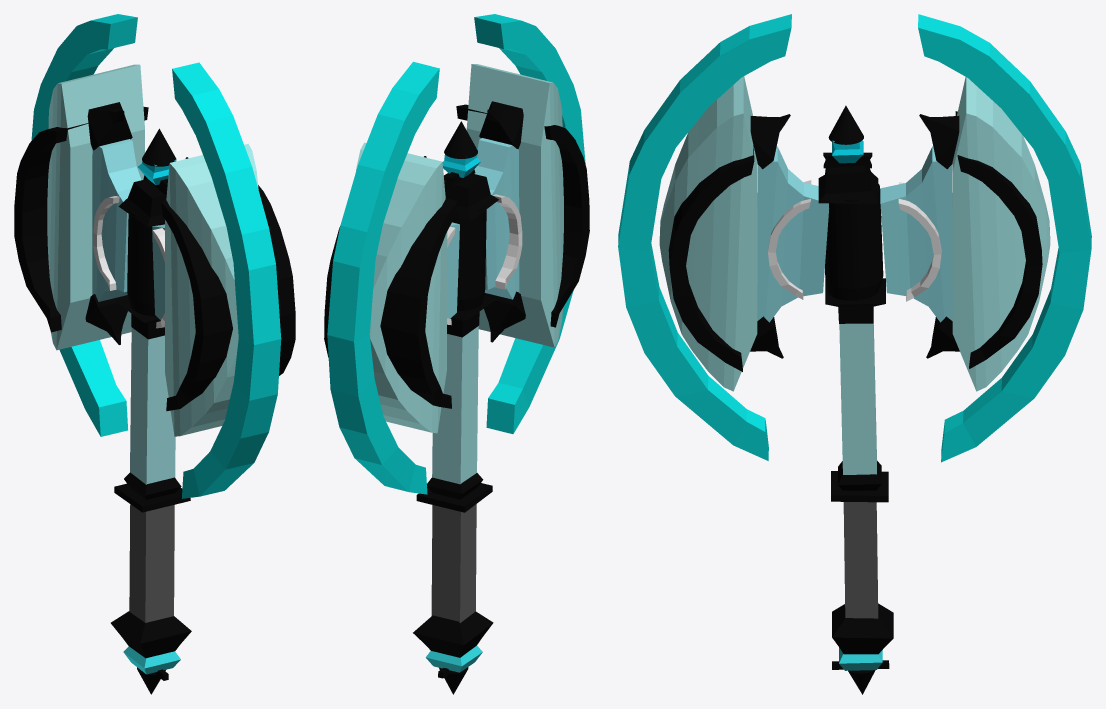
The model's file is axe.fbx.
3 renders of one model, left to right at view 1: azimuth 30°, elevation 25°; view 2: azimuth 150°, elevation 25°; view 3: azimuth 270°, elevation 25°, orthographic. The views are drawn at different scales.
Parts seen in each view (by area): view 1: Cube.022, Cube.003, Cube.014, Cube.024, Cube.012; view 2: Cube.022, Cube.003, Cube.014, Cube.024, Cube.012; view 3: Cube.022, Cube.003, Cube.024, Cube.014, Cube.012.
Part boxes in pixels (x1,y1,x2,y2): Cube.022: (14, 64, 295, 436); Cube.003: (31, 14, 281, 498); Cube.014: (111, 297, 191, 694); Cube.024: (92, 139, 164, 328); Cube.012: (118, 128, 176, 316); Cube.022: (324, 64, 589, 433); Cube.003: (327, 14, 585, 494); Cube.014: (413, 296, 495, 694); Cube.024: (447, 138, 522, 325); Cube.012: (442, 121, 498, 311); Cube.022: (659, 76, 1050, 391); Cube.003: (618, 14, 1091, 462); Cube.024: (757, 146, 952, 322); Cube.014: (825, 278, 893, 694); Cube.012: (818, 105, 883, 300).
Size of the model in its own units: 70.63 by 420 by 267.
